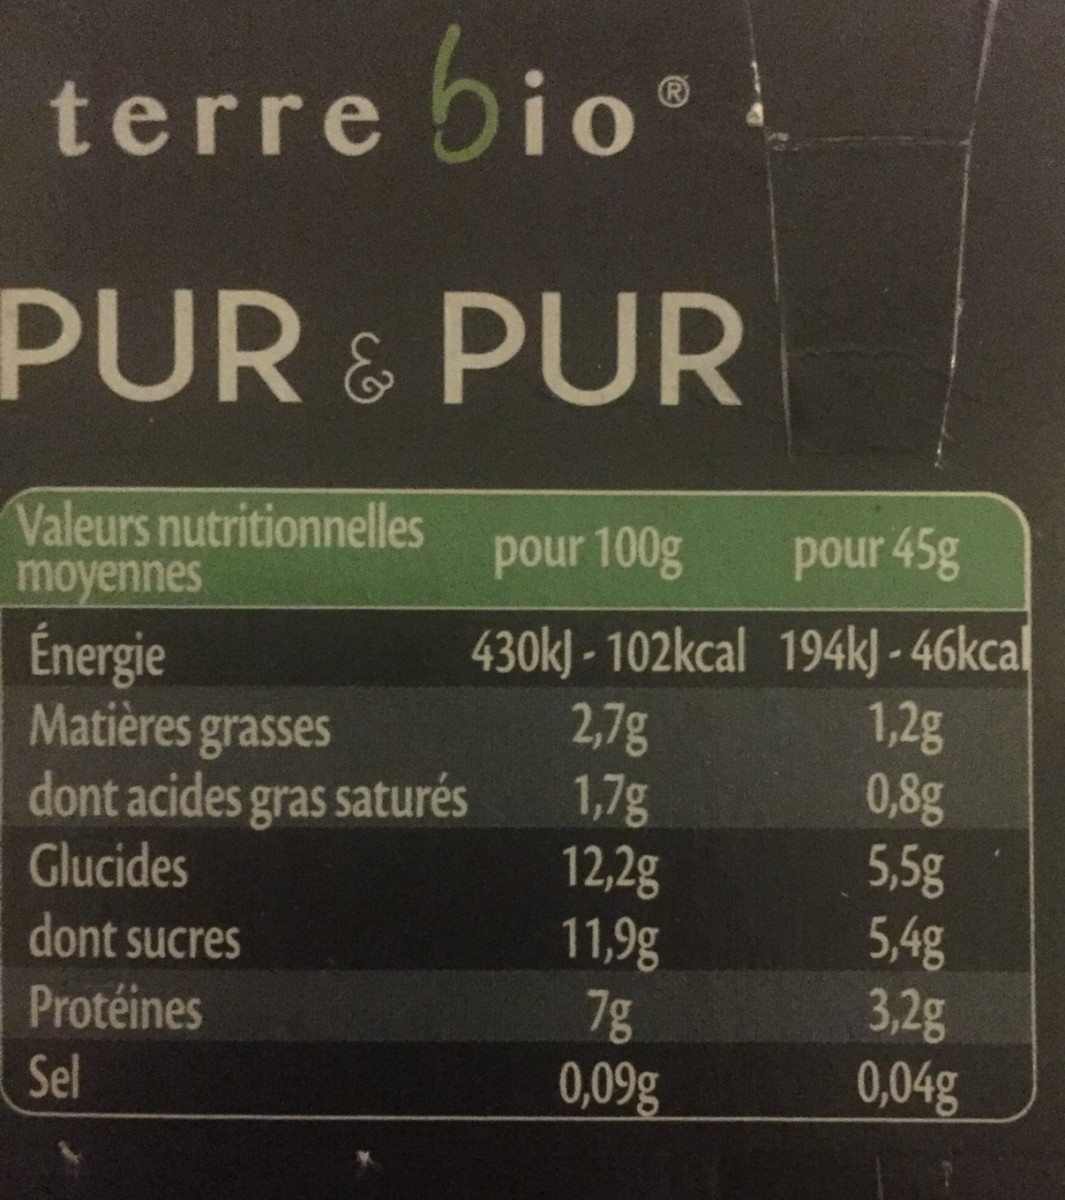column: (24, 612, 465, 1106), (474, 612, 749, 1115), (782, 614, 1027, 1115)
table: (4, 486, 1038, 1130)
